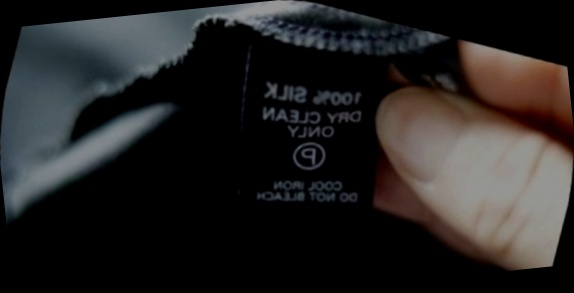dry_clean_any_solvent_except_trichloroethylene: (280, 128, 336, 182)
